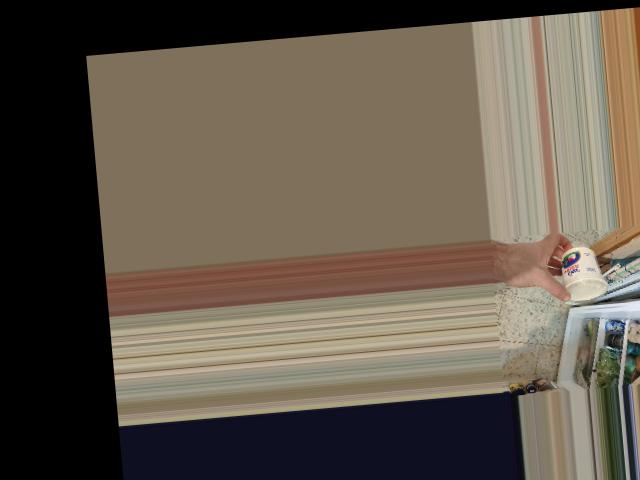cotage: (554, 246, 608, 302)
